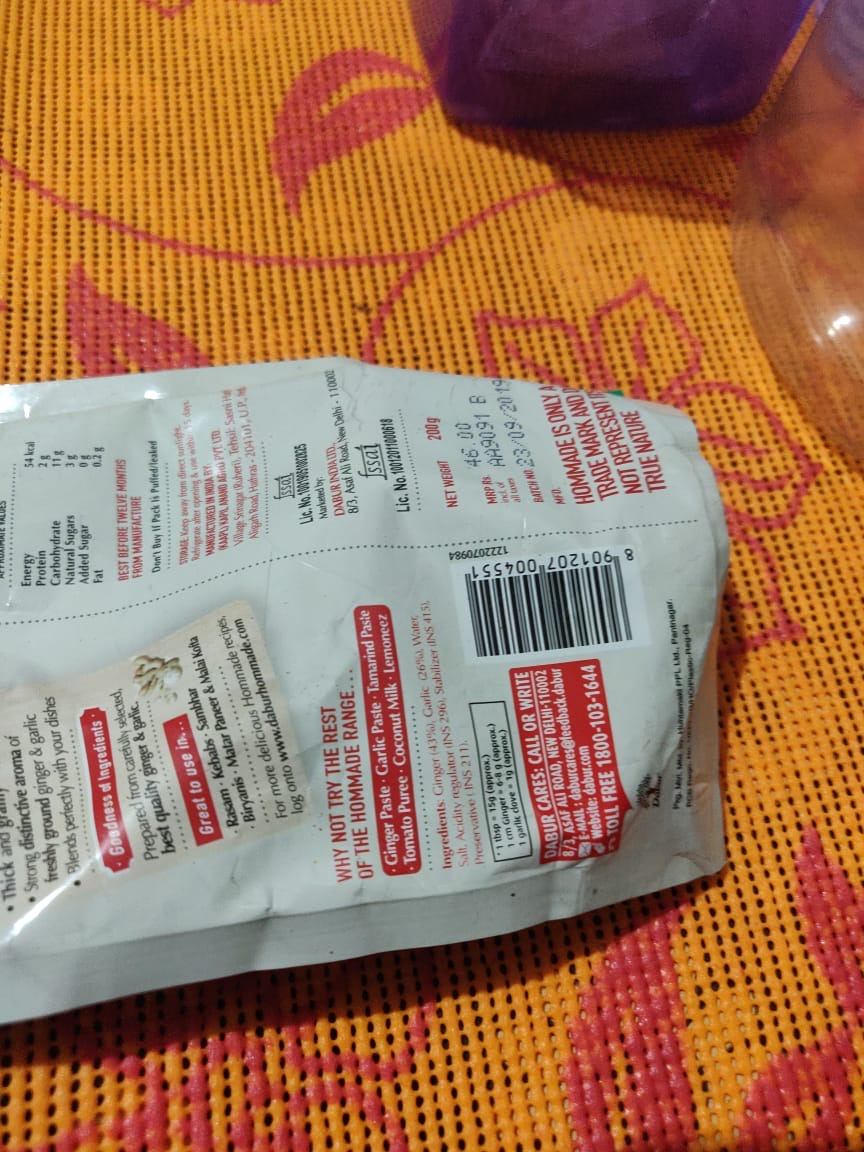barcode: (463, 562, 647, 657)
